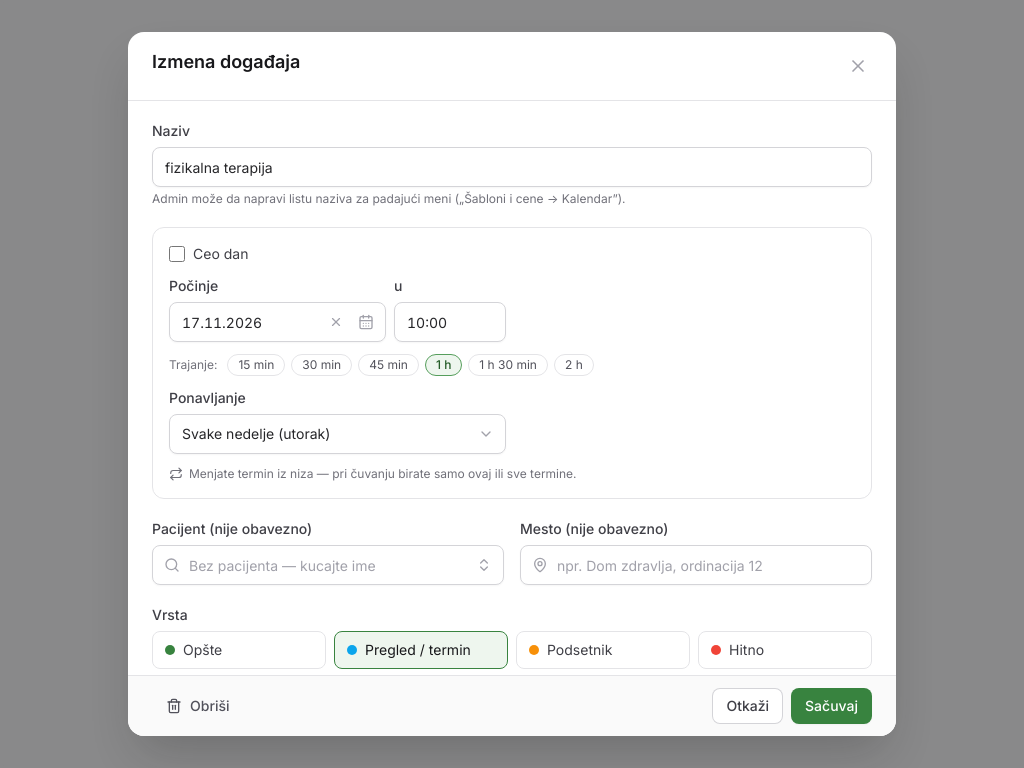
Scenario: EventDialog › izmena termina iz niza pita: samo ovaj ili svi
Later steps or results of the test are not shown.
Replace the text in the field labelled "Naziv" with "fizikalna terapija (pomereno)". click: (512, 167)
box: [152,147,872,187]
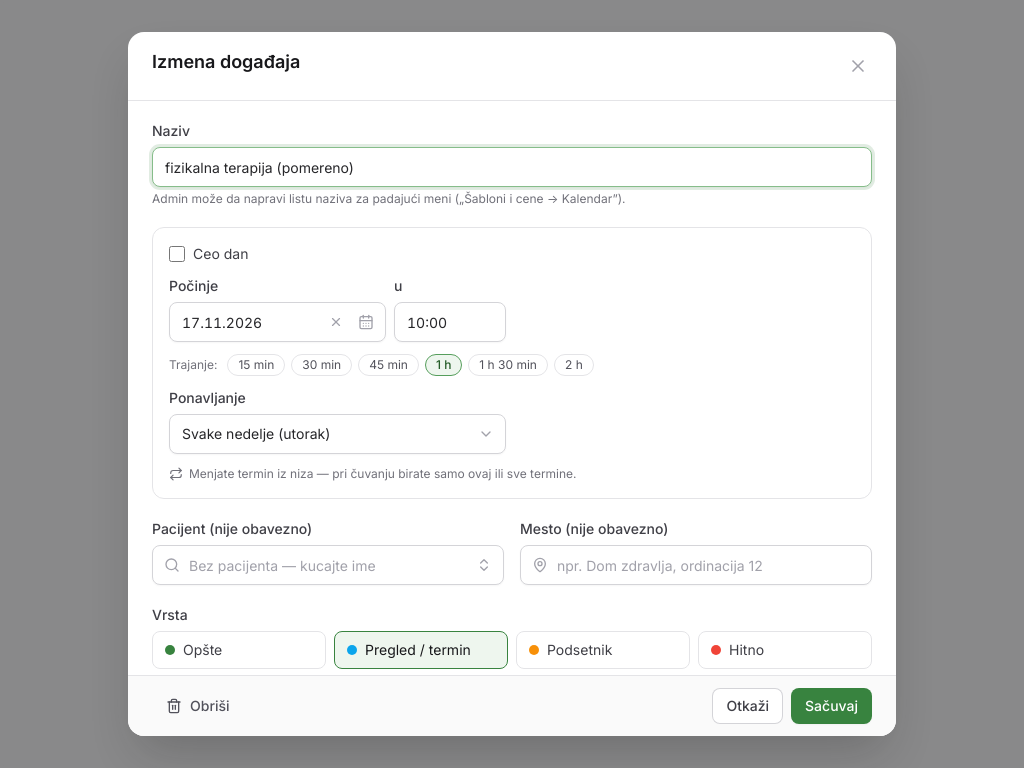
Click the button "Sačuvaj". click: (832, 706)
box: [791,688,872,724]
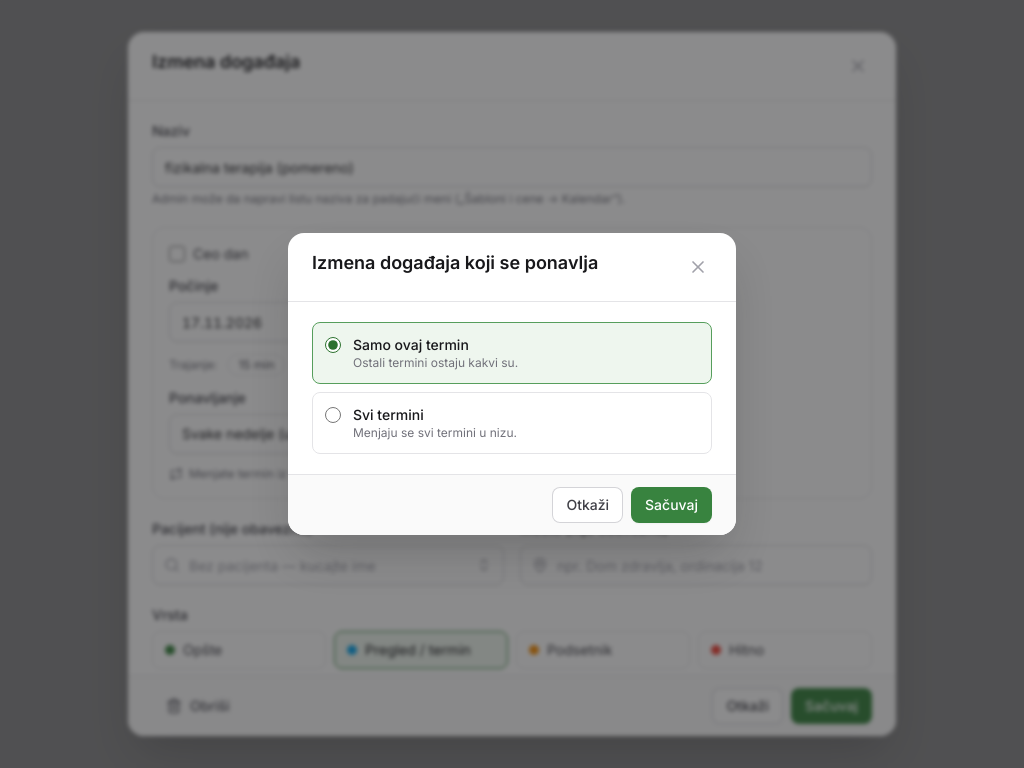
Check: the radio button labelled "Samo ovaj termin Ostali termini ostaju kakvi su." is checked, box [325,337,341,353]
